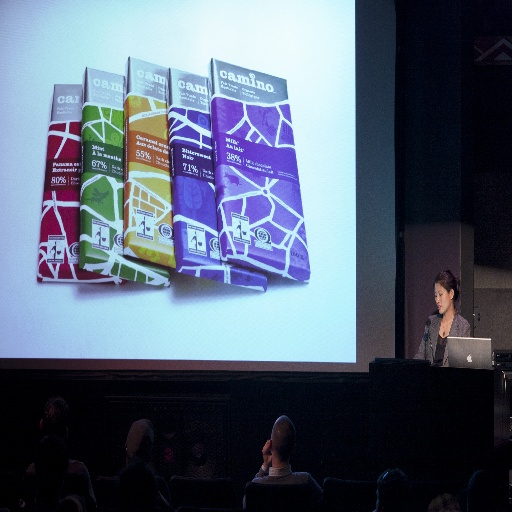hand: (262, 441, 273, 465)
